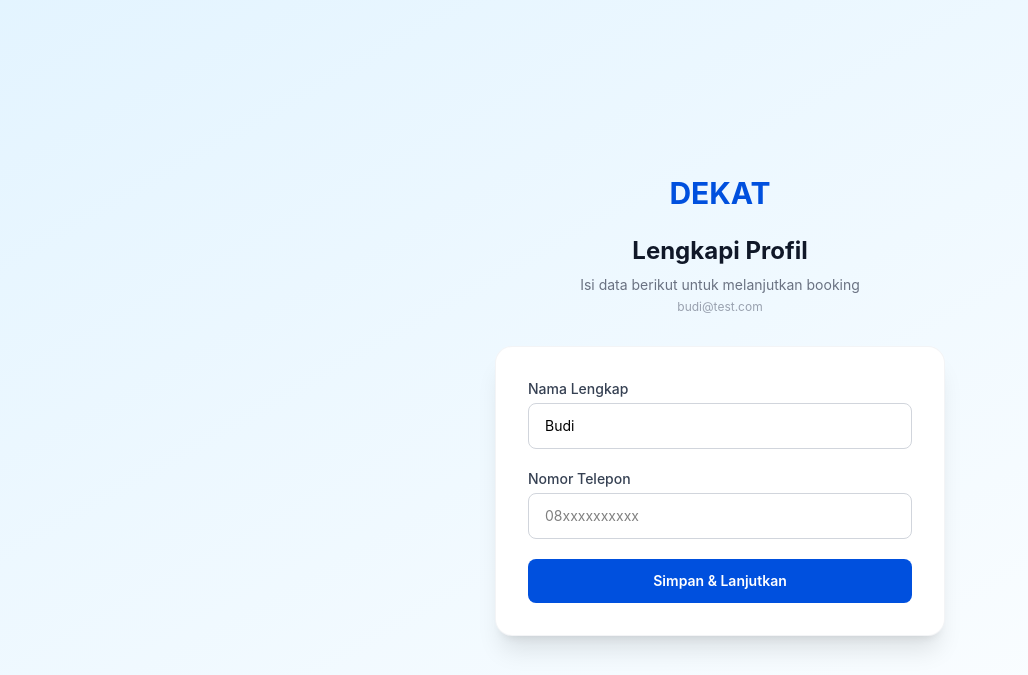
Test case: ProfileCompletePage › shows Menyimpan... loading state during submission
Replace the text in the field with placeholder "Masukkan nama Anda" with "Budi Santoso": {"x": 720, "y": 426} x1=528 y1=403 x2=912 y2=449
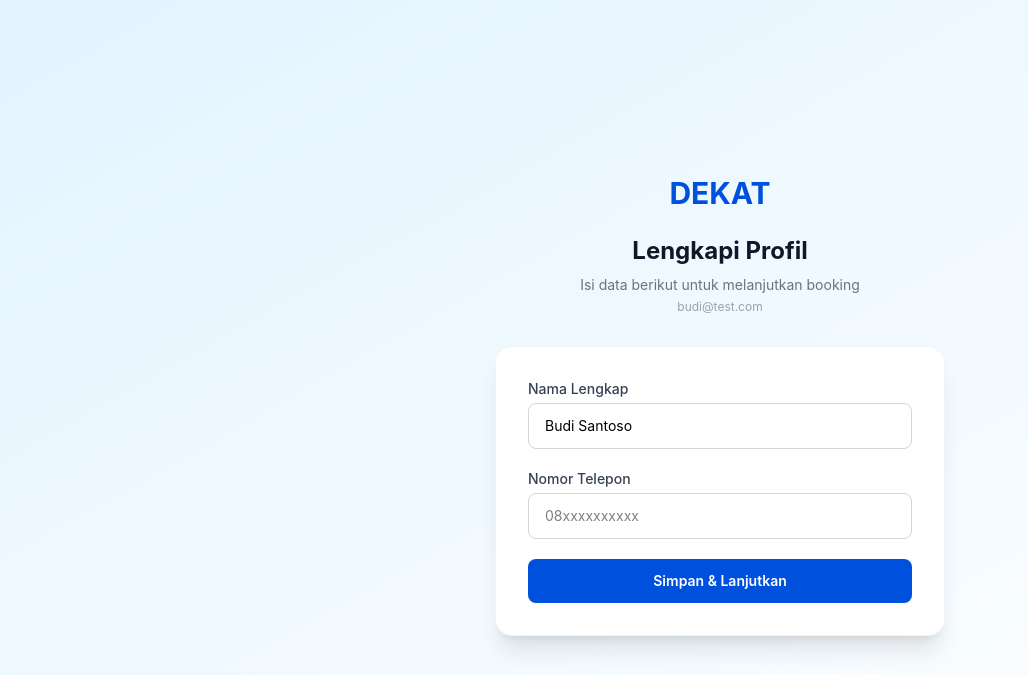
In the field with placeholder "08xxxxxxxxxx": {"x": 720, "y": 516} x1=528 y1=493 x2=912 y2=539, type "081234567890"
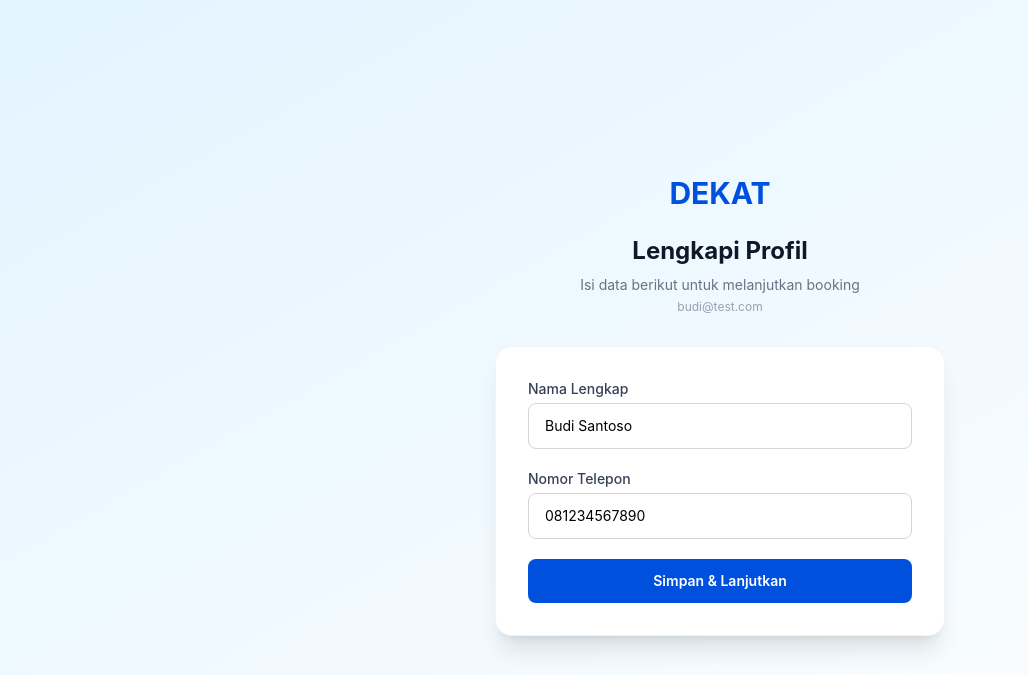
Click the button "Simpan & Lanjutkan": {"x": 720, "y": 581} x1=528 y1=559 x2=912 y2=603
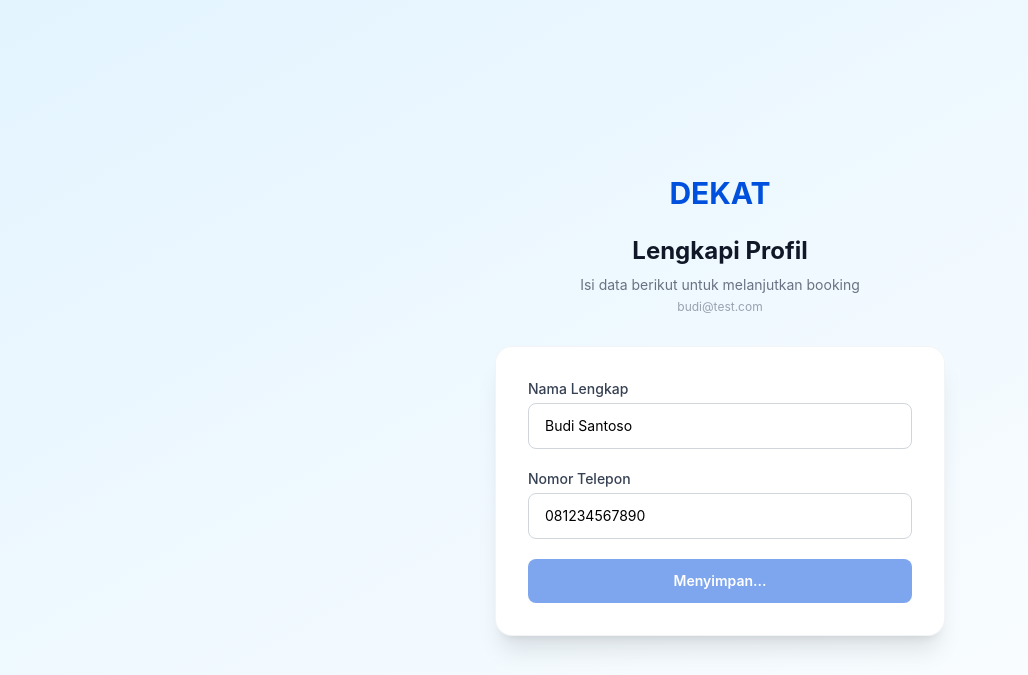
Now the button "Menyimpan..." is shown, box x1=528 y1=559 x2=912 y2=603
